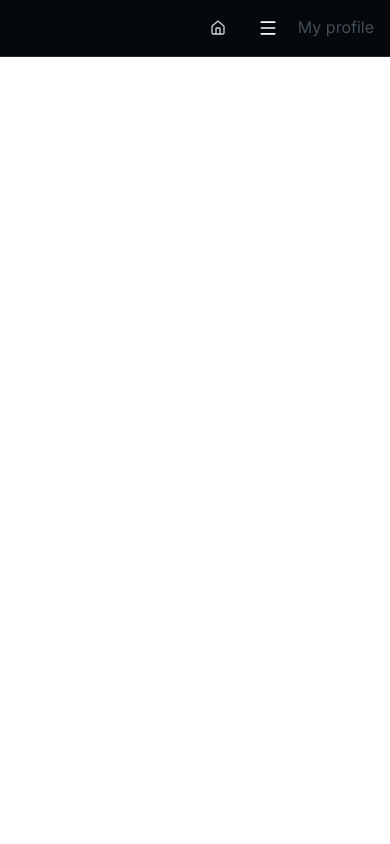
AdminSidebar mobile drawer › keeps the nav panel on a higher layer than the backdrop
Click the button named "open navigation menu" at (268, 28), box top-left (246, 12), bottom-right (290, 44)
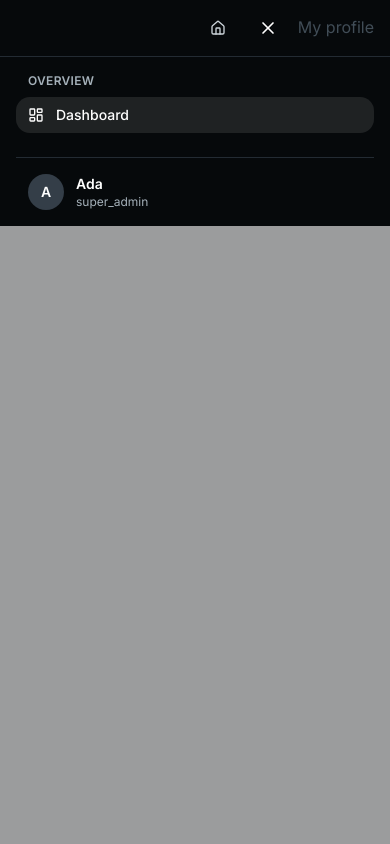
Check: the element with id "admin-sidebar" is shown, box top-left (0, 57), bottom-right (389, 226)
